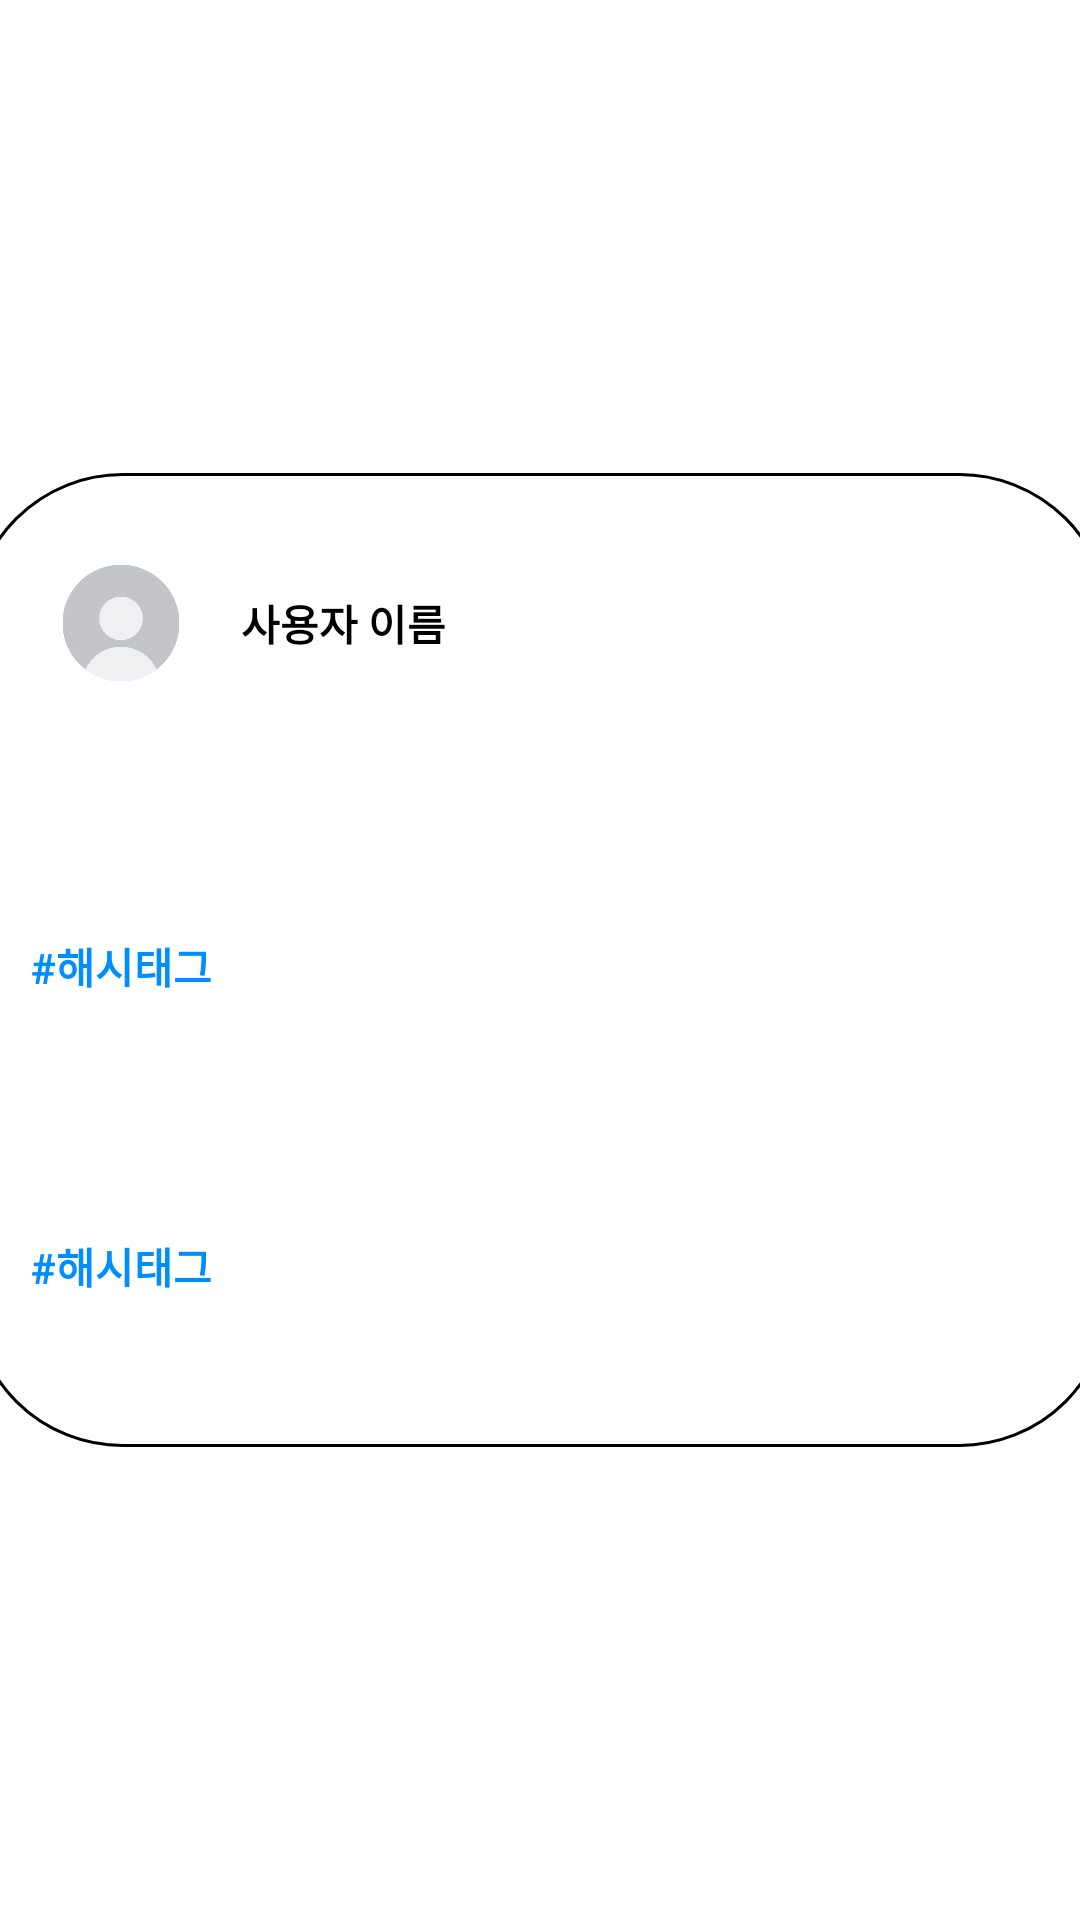

Screen size 1080*1920. Icon name, then its center in pixels as point (x, y):
info profile: point (121, 617)
